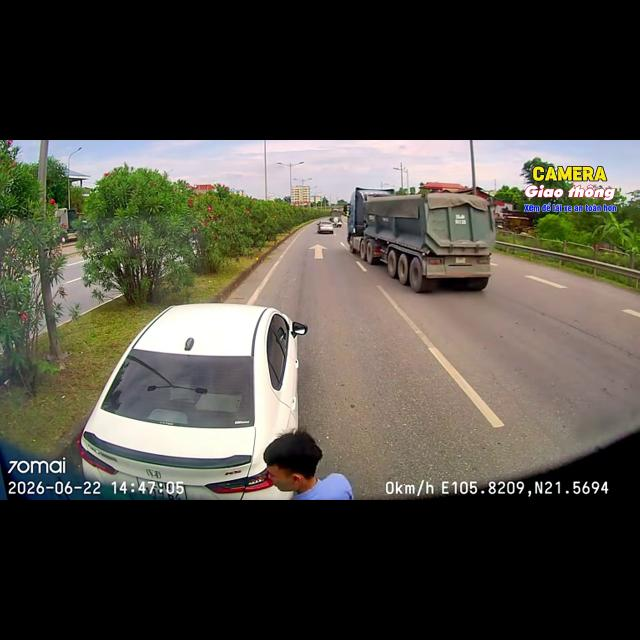car: (77, 304, 307, 499), (317, 220, 333, 233), (331, 217, 341, 227)
truck: (347, 193, 495, 292), (344, 187, 394, 243), (55, 208, 77, 243), (330, 209, 341, 226)
